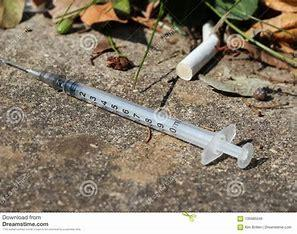Syringe: (4, 60, 258, 172)
